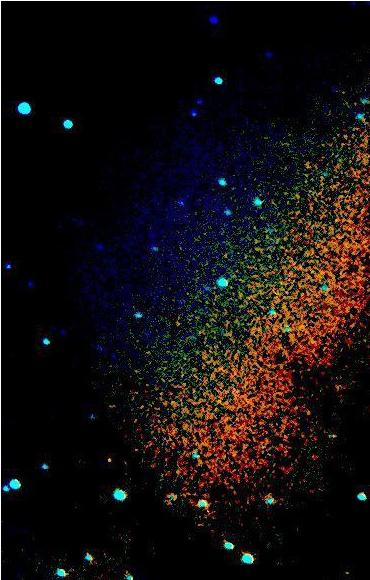star: (94, 444, 124, 474)
